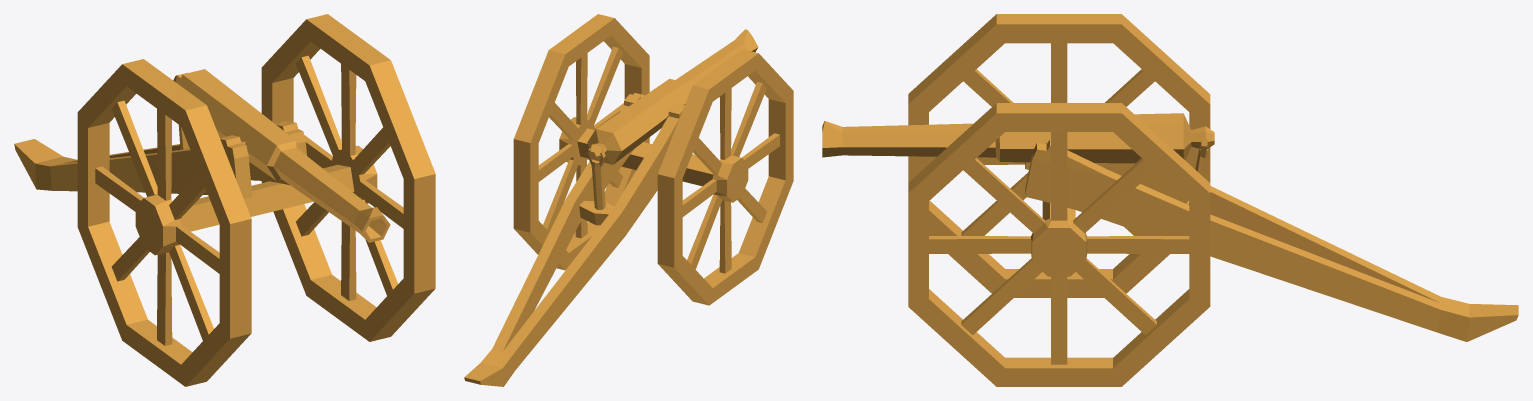
Rendered from cannon-pounder.fbx.
3 renders of one model, left to right at view 1: azimuth 30°, elevation 25°; view 2: azimuth 150°, elevation 25°; view 3: azimuth 270°, elevation 25°, orthographic. The views are drawn at different scales.
Parts seen in each view (by area): view 1: cannon-pounder; view 2: cannon-pounder; view 3: cannon-pounder.
Boxes of the visible parts, <box> form: cannon-pounder: <box>14,14,435,386</box>; cannon-pounder: <box>464,14,793,386</box>; cannon-pounder: <box>822,14,1518,386</box>.
Size of the model in its own units: 1.2 by 1.48 by 3.41.
